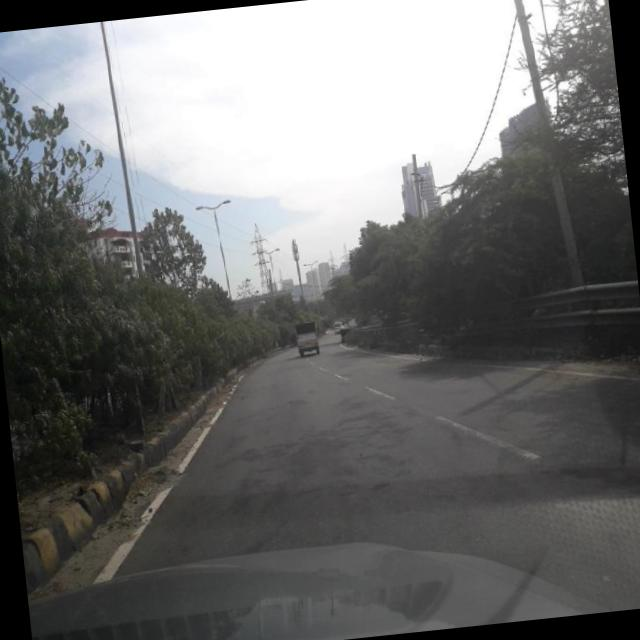pothole: (321, 408, 406, 458)
